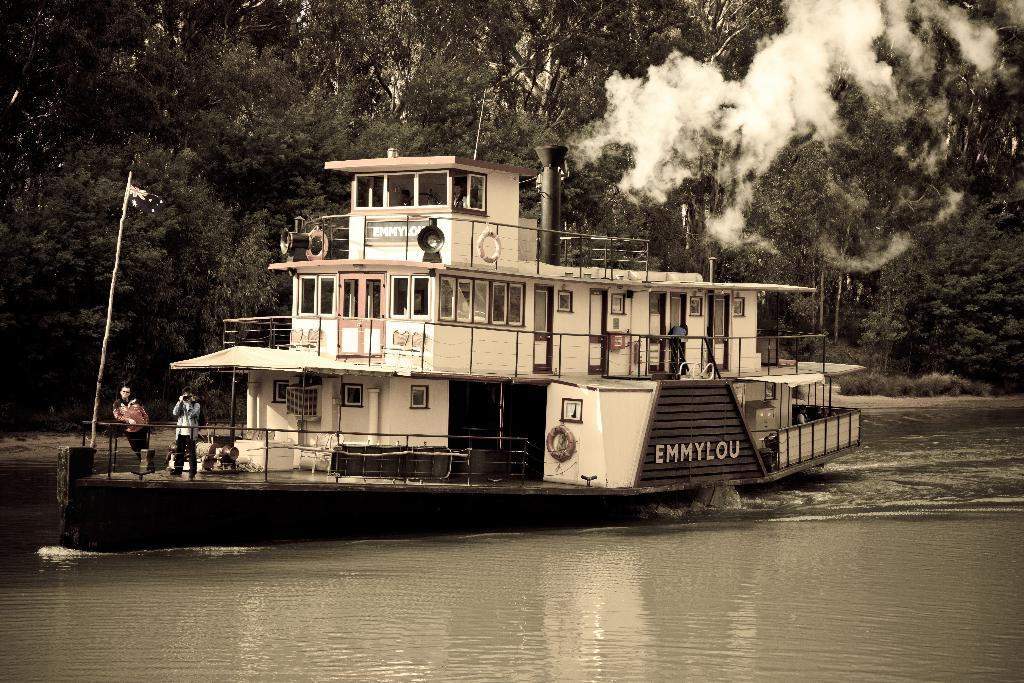PassengerShip: (52, 129, 882, 547)
